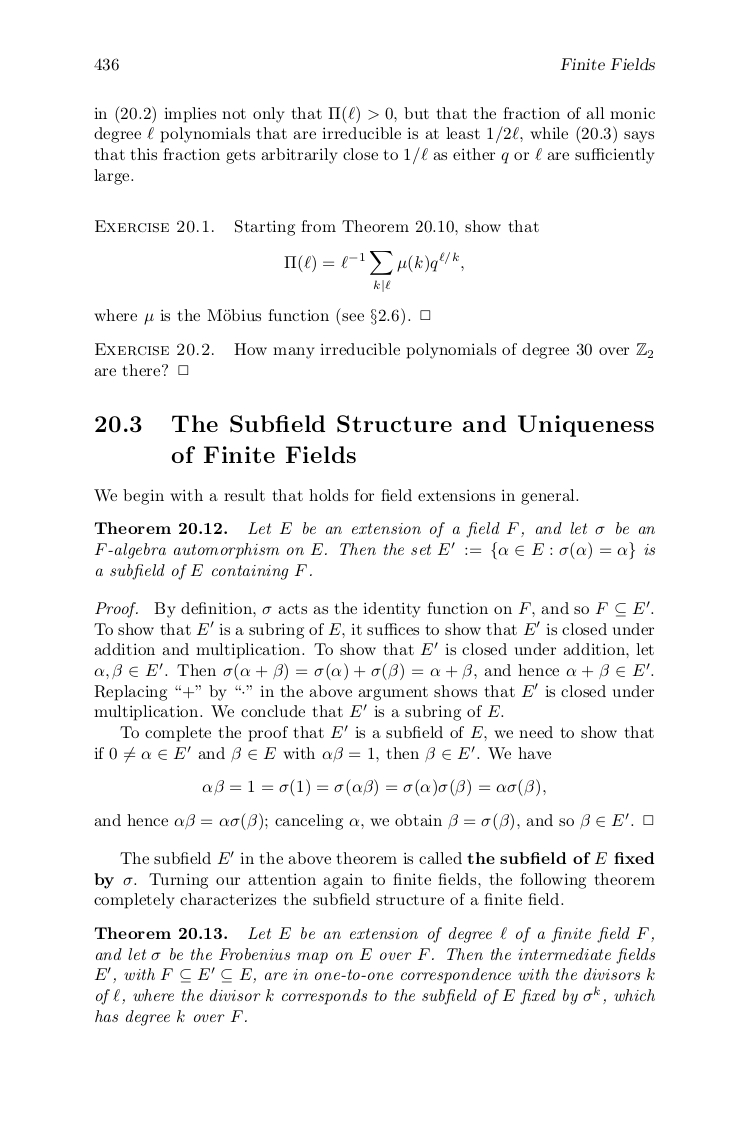formula: (284, 251, 463, 291), (202, 778, 545, 797)
